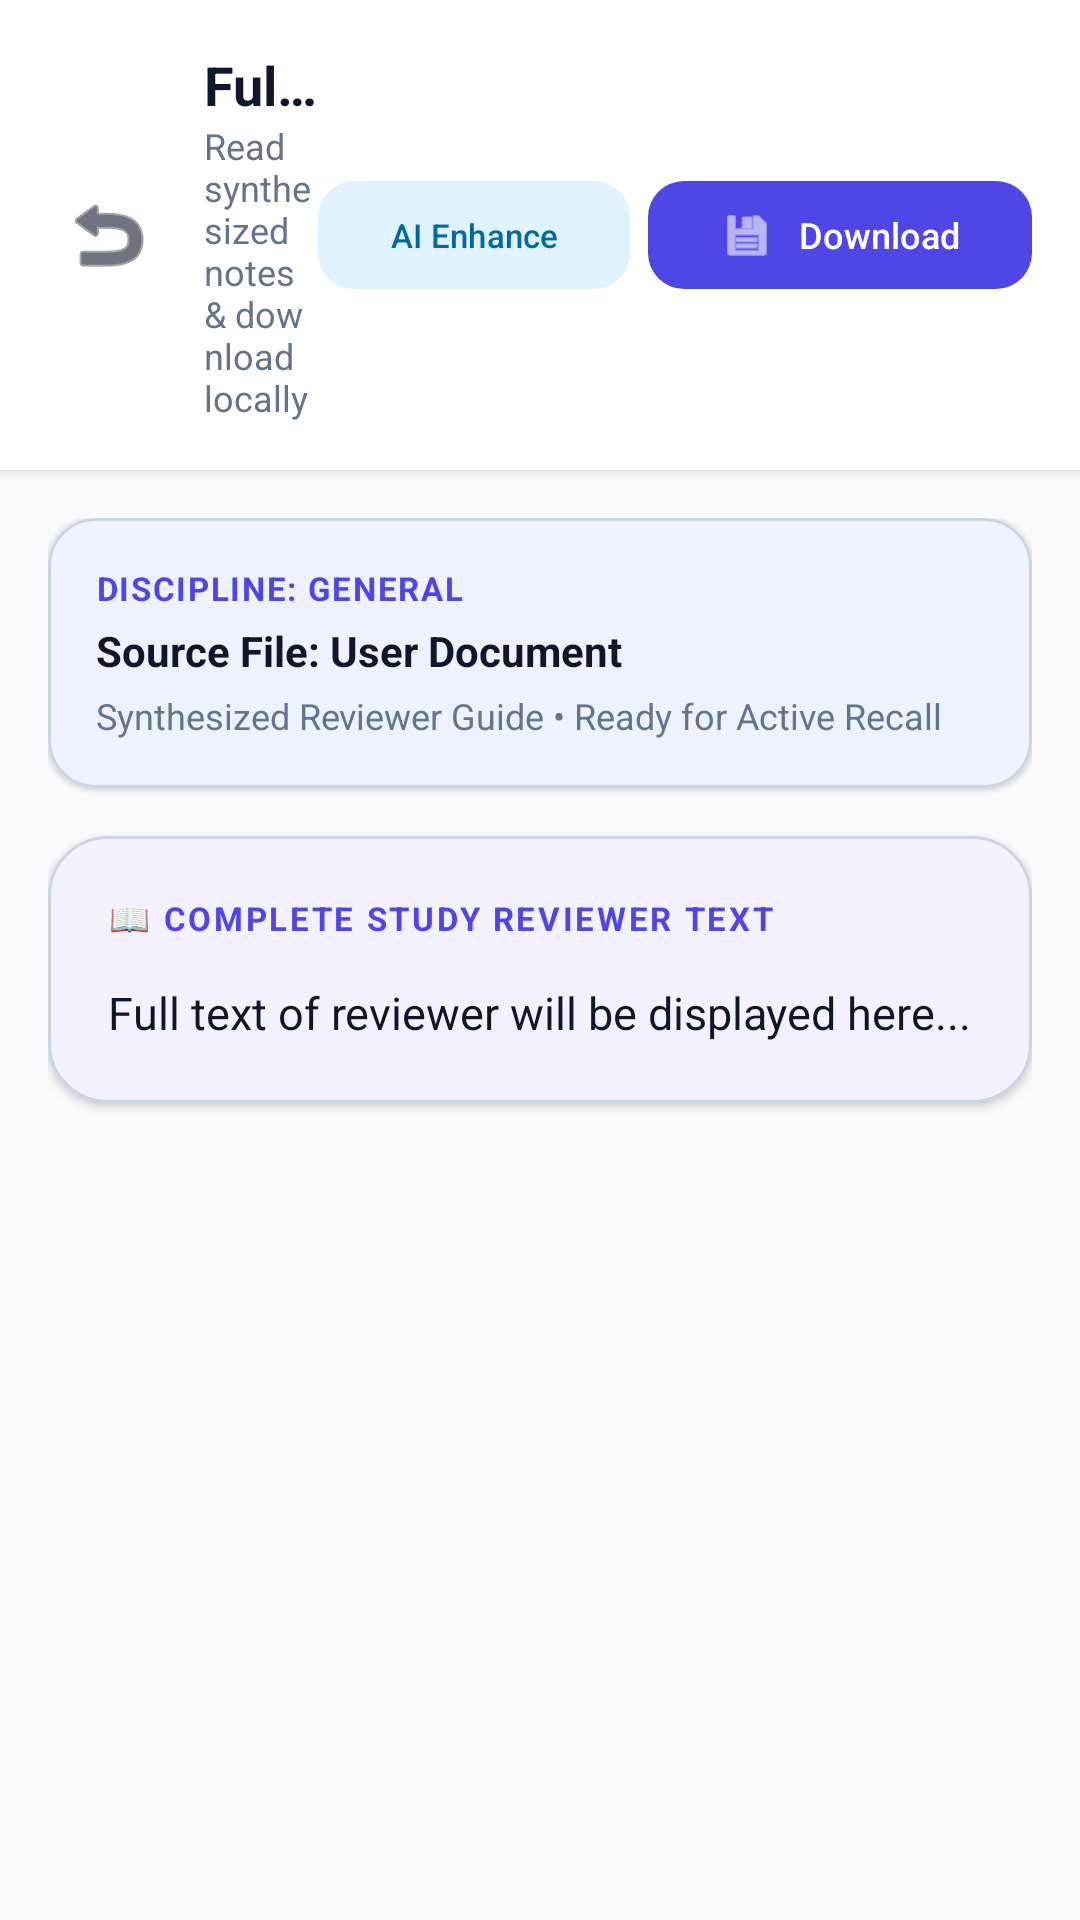

Where to tap for icons on this 1080 x 1920 app screen, as [x,y]:
revert: [109,235]
